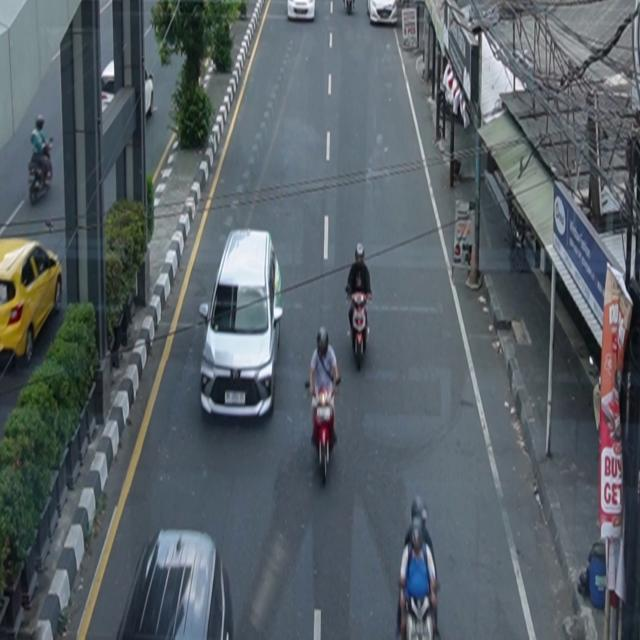car: (199, 229, 284, 421), (117, 529, 234, 640), (1, 238, 63, 366), (102, 58, 155, 118), (367, 1, 398, 26), (288, 1, 316, 22)
